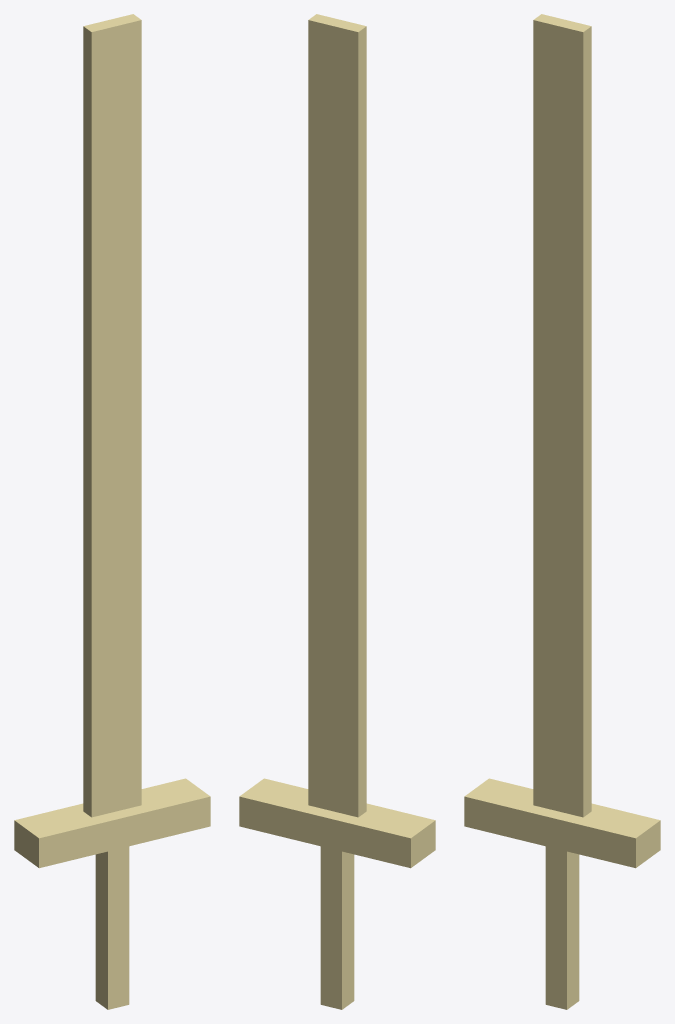
The model's file is elven_sabre.glb.
3 views of the same model, side by side, from view 1: azimuth 30°, elevation 25°; view 2: azimuth 150°, elevation 25°; view 3: azimuth 330°, elevation 25° (orthographic).
Parts seen in each view (by area): view 1: elven_sabre; view 2: elven_sabre; view 3: elven_sabre.
Boxes of the visible parts, x1,y1,x2,y2 form: elven_sabre: [14, 14, 210, 1009]; elven_sabre: [239, 14, 435, 1009]; elven_sabre: [464, 14, 660, 1009].
Size of the model in its own units: 0.24 by 1.31 by 0.06.
